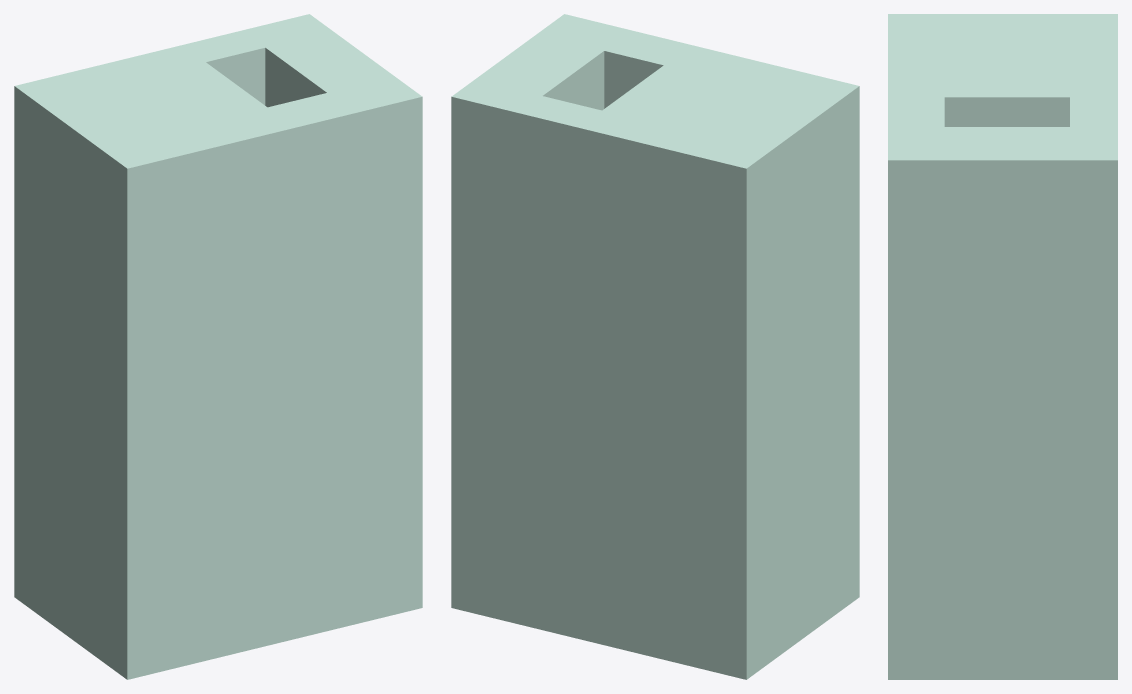
3 views of the same model, side by side, from view 1: azimuth 30°, elevation 25°; view 2: azimuth 150°, elevation 25°; view 3: azimuth 270°, elevation 25° (orthographic).
Visible parts, largest first — view 1: Renderer Node; view 2: Renderer Node; view 3: Renderer Node.
Part boxes in pixels (box(x1,y1,x2,y2)): Renderer Node: box(14, 14, 422, 679); Renderer Node: box(451, 14, 859, 679); Renderer Node: box(888, 14, 1117, 679).
Bounding box in the file's own units: 0.4531 × 0.75 × 0.3005.
